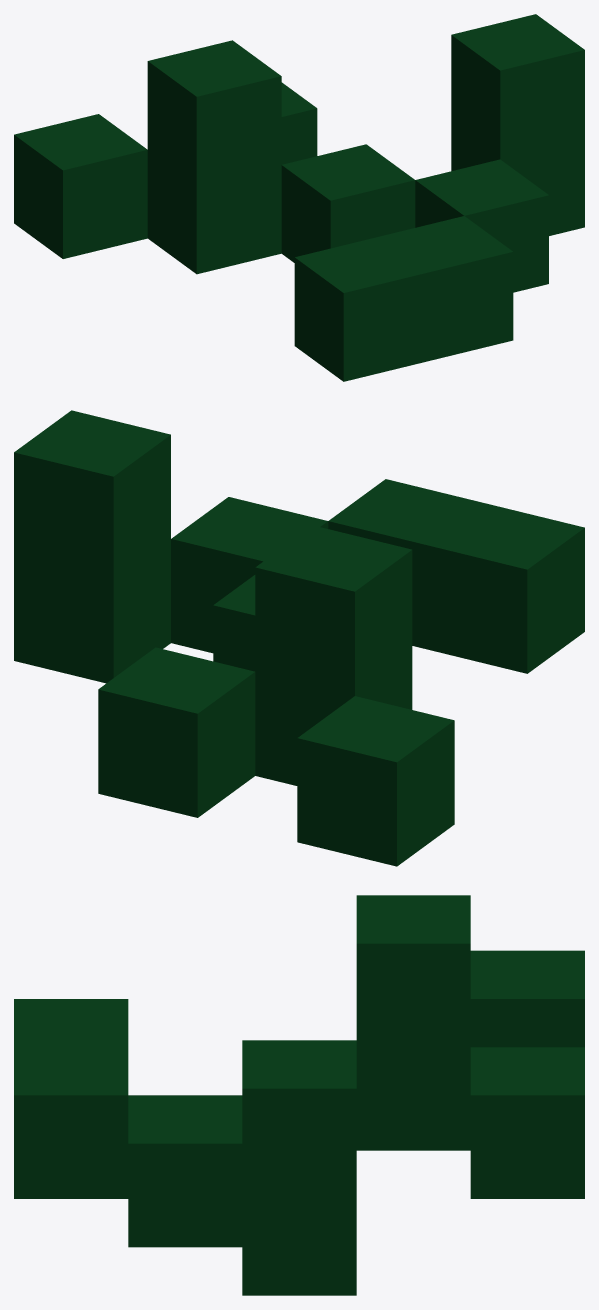
File: GrassPiece9.fbx
The picture shows the model from 3 angles, top to bottom: view 1: azimuth 30°, elevation 25°; view 2: azimuth 150°, elevation 25°; view 3: azimuth 270°, elevation 25°; orthographic projection. The views are drawn at different scales.
Visible parts, largest first — view 1: Matrix_Piece0_0_1_Piece0_0_0; view 2: Matrix_Piece0_0_1_Piece0_0_0; view 3: Matrix_Piece0_0_1_Piece0_0_0.
Part boxes in pixels (x1=…): Matrix_Piece0_0_1_Piece0_0_0: x1=14, y1=14, x2=584, y2=381; Matrix_Piece0_0_1_Piece0_0_0: x1=14, y1=410, x2=584, y2=866; Matrix_Piece0_0_1_Piece0_0_0: x1=14, y1=895, x2=584, y2=1295.
Bounding box in the file's own units: 5 × 2 × 5.
1 material, 1 textured.
